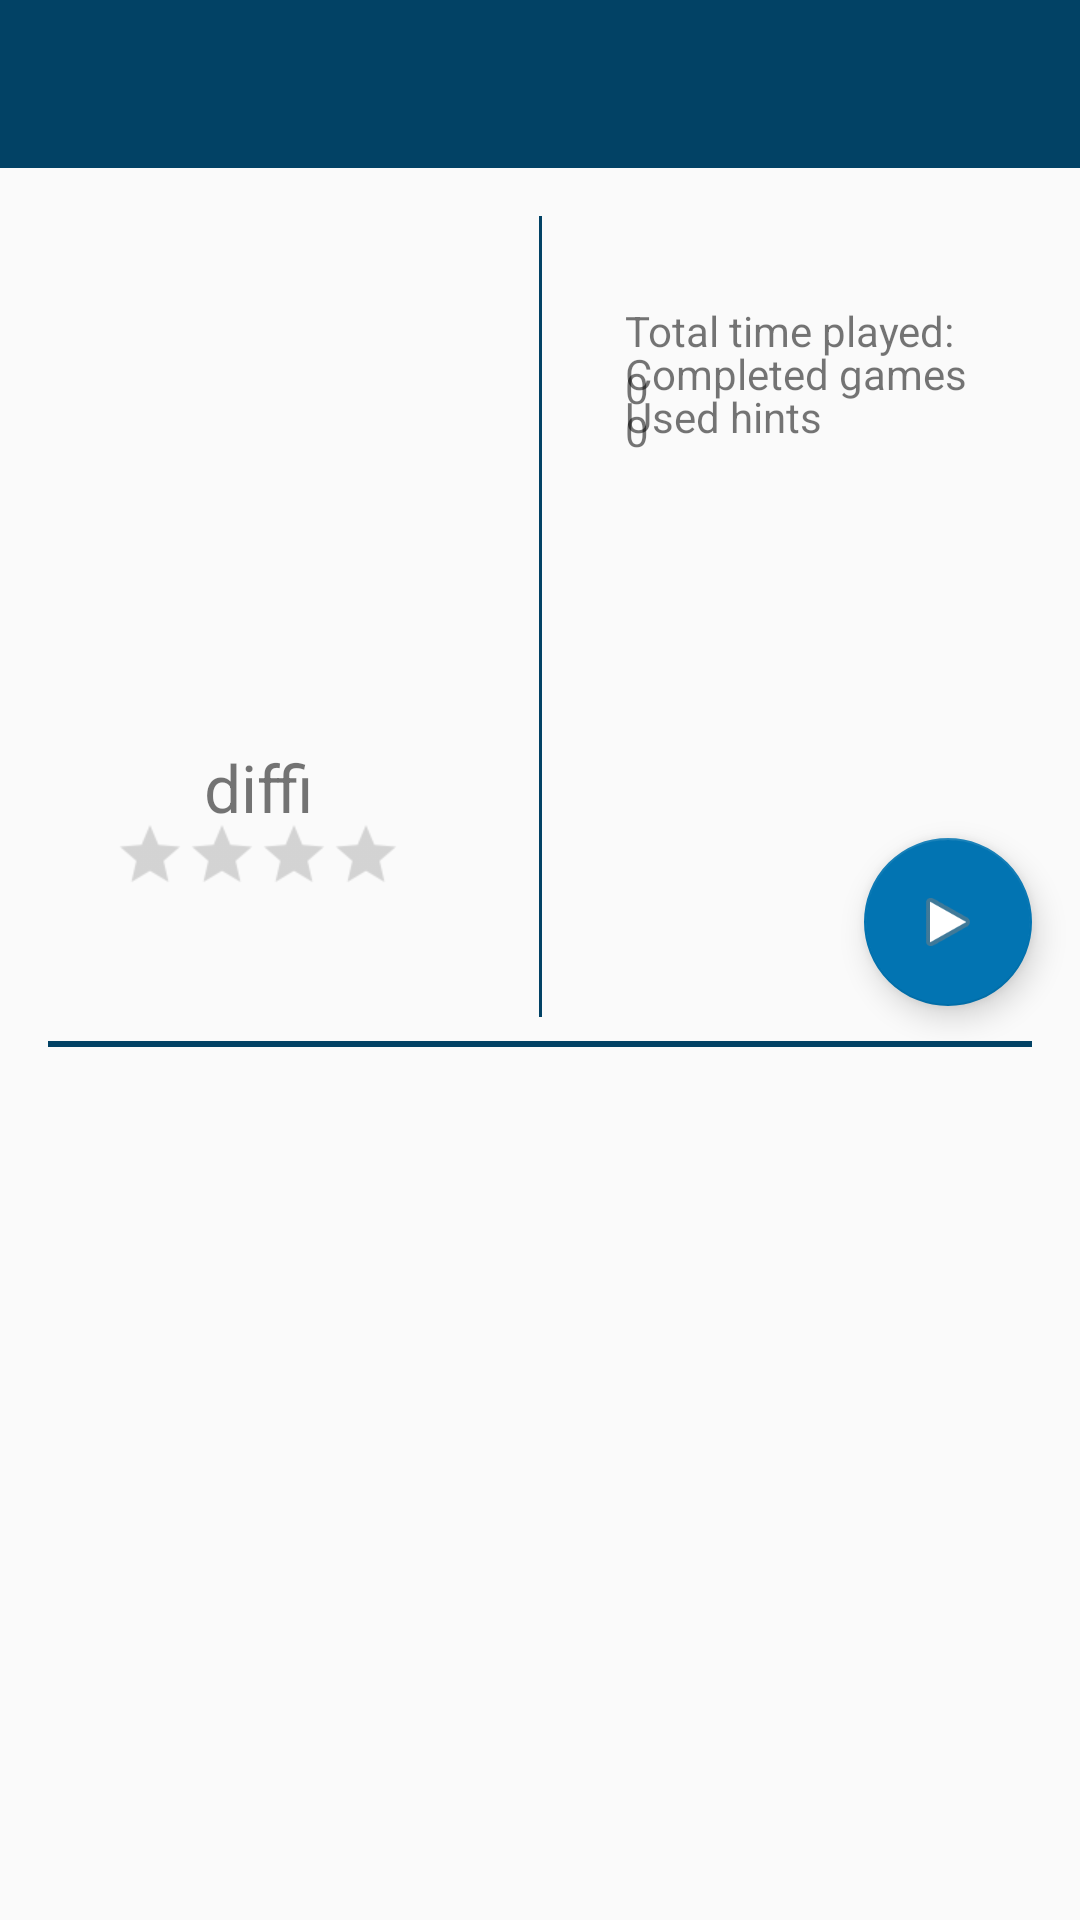

Where icons sit on this 1080w x 1920h app screen, as [x1=x1, y1=y1, x2=x2, y2=y2]:
play: [x1=864, y1=838, x2=1032, y2=1006]
